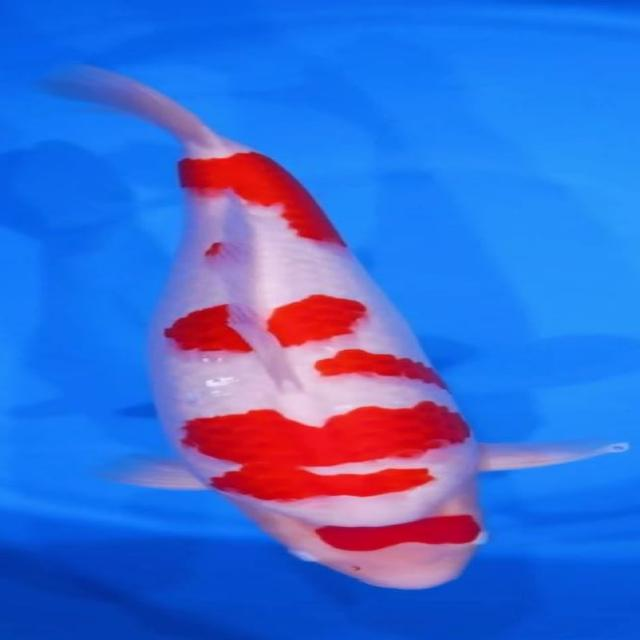Kohaku: (34, 61, 626, 590)
